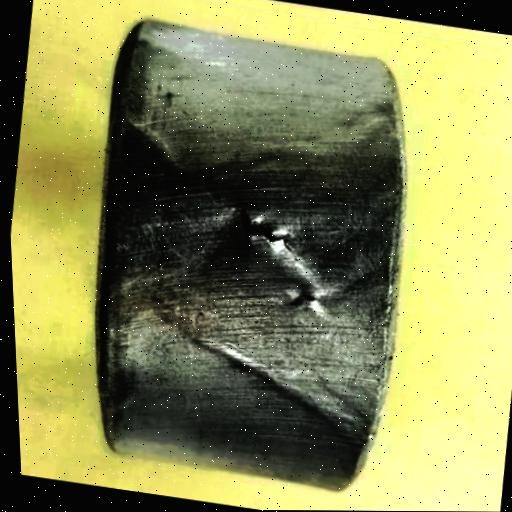crack: (226, 201, 295, 251), (299, 288, 324, 306)
